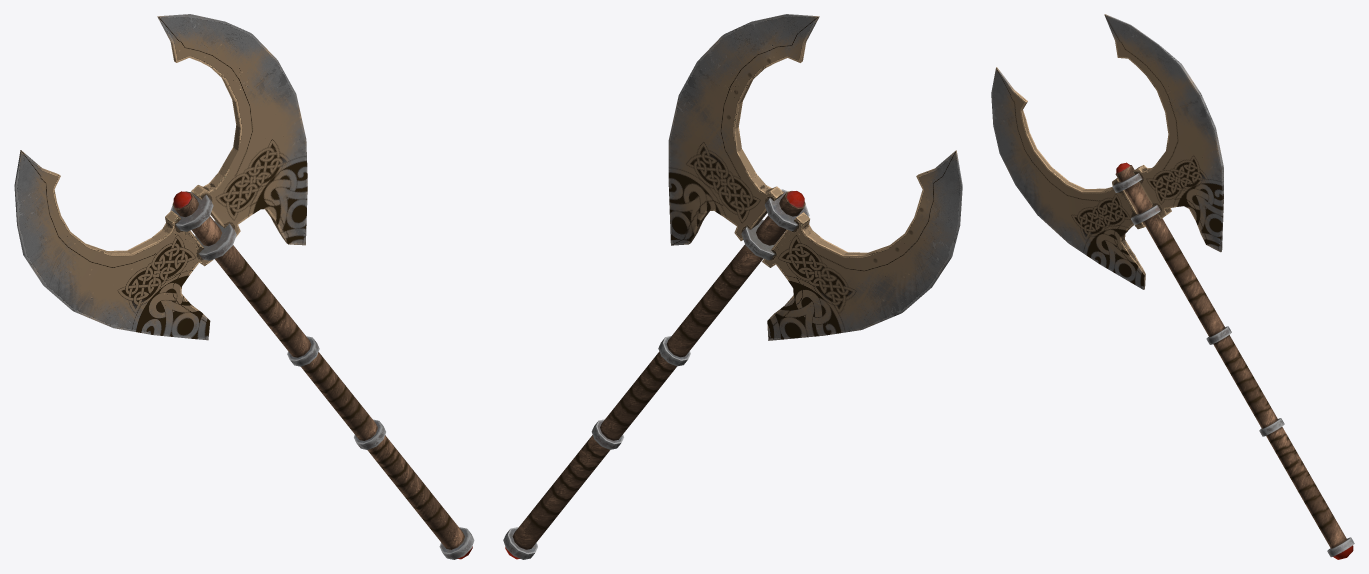
The model's file is BACK_DOUBLE_AXE.fbx.
3 views of the same model, side by side, from view 1: azimuth 30°, elevation 25°; view 2: azimuth 150°, elevation 25°; view 3: azimuth 330°, elevation 25° (orthographic). The views are drawn at different scales.
Parts seen in each view (by area): view 1: BACK_DOUBLE_AXE; view 2: BACK_DOUBLE_AXE; view 3: BACK_DOUBLE_AXE.
Part boxes in pixels (x1,y1,x2,y2): BACK_DOUBLE_AXE: (14, 14, 474, 559); BACK_DOUBLE_AXE: (503, 14, 962, 559); BACK_DOUBLE_AXE: (991, 14, 1354, 559).
Size of the model in its own units: 0.0685 by 0.0881 by 0.00577.
